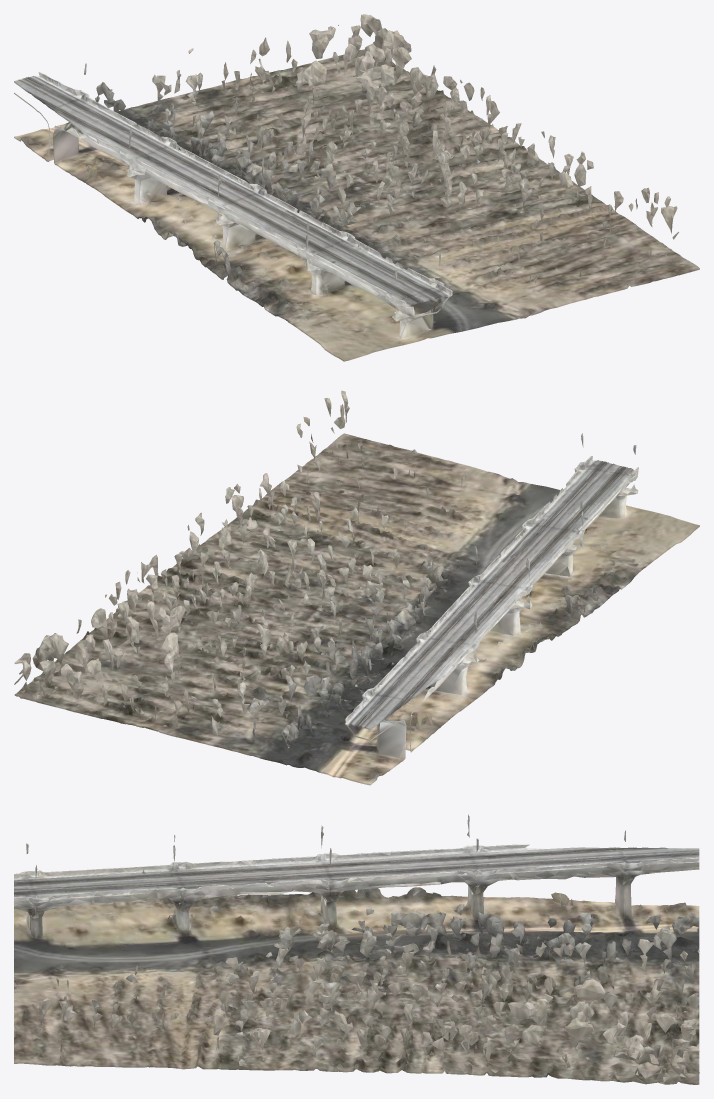
The model's file is Block_L17_60.glb.
3 views of the same model, one above another, from view 1: azimuth 30°, elevation 25°; view 2: azimuth 150°, elevation 25°; view 3: azimuth 270°, elevation 25° (orthographic). The views are drawn at different scales.
Visible parts, largest first — view 1: rtc; view 2: rtc; view 3: rtc.
Part boxes in pixels (box(x1,y1,x2,y2)): rtc: box(14, 14, 699, 361); rtc: box(14, 390, 699, 785); rtc: box(14, 814, 699, 1084).
Bounding box in the file's own units: 94.09 × 23.78 × 151.
Materials: 5 (5 with a texture image).
